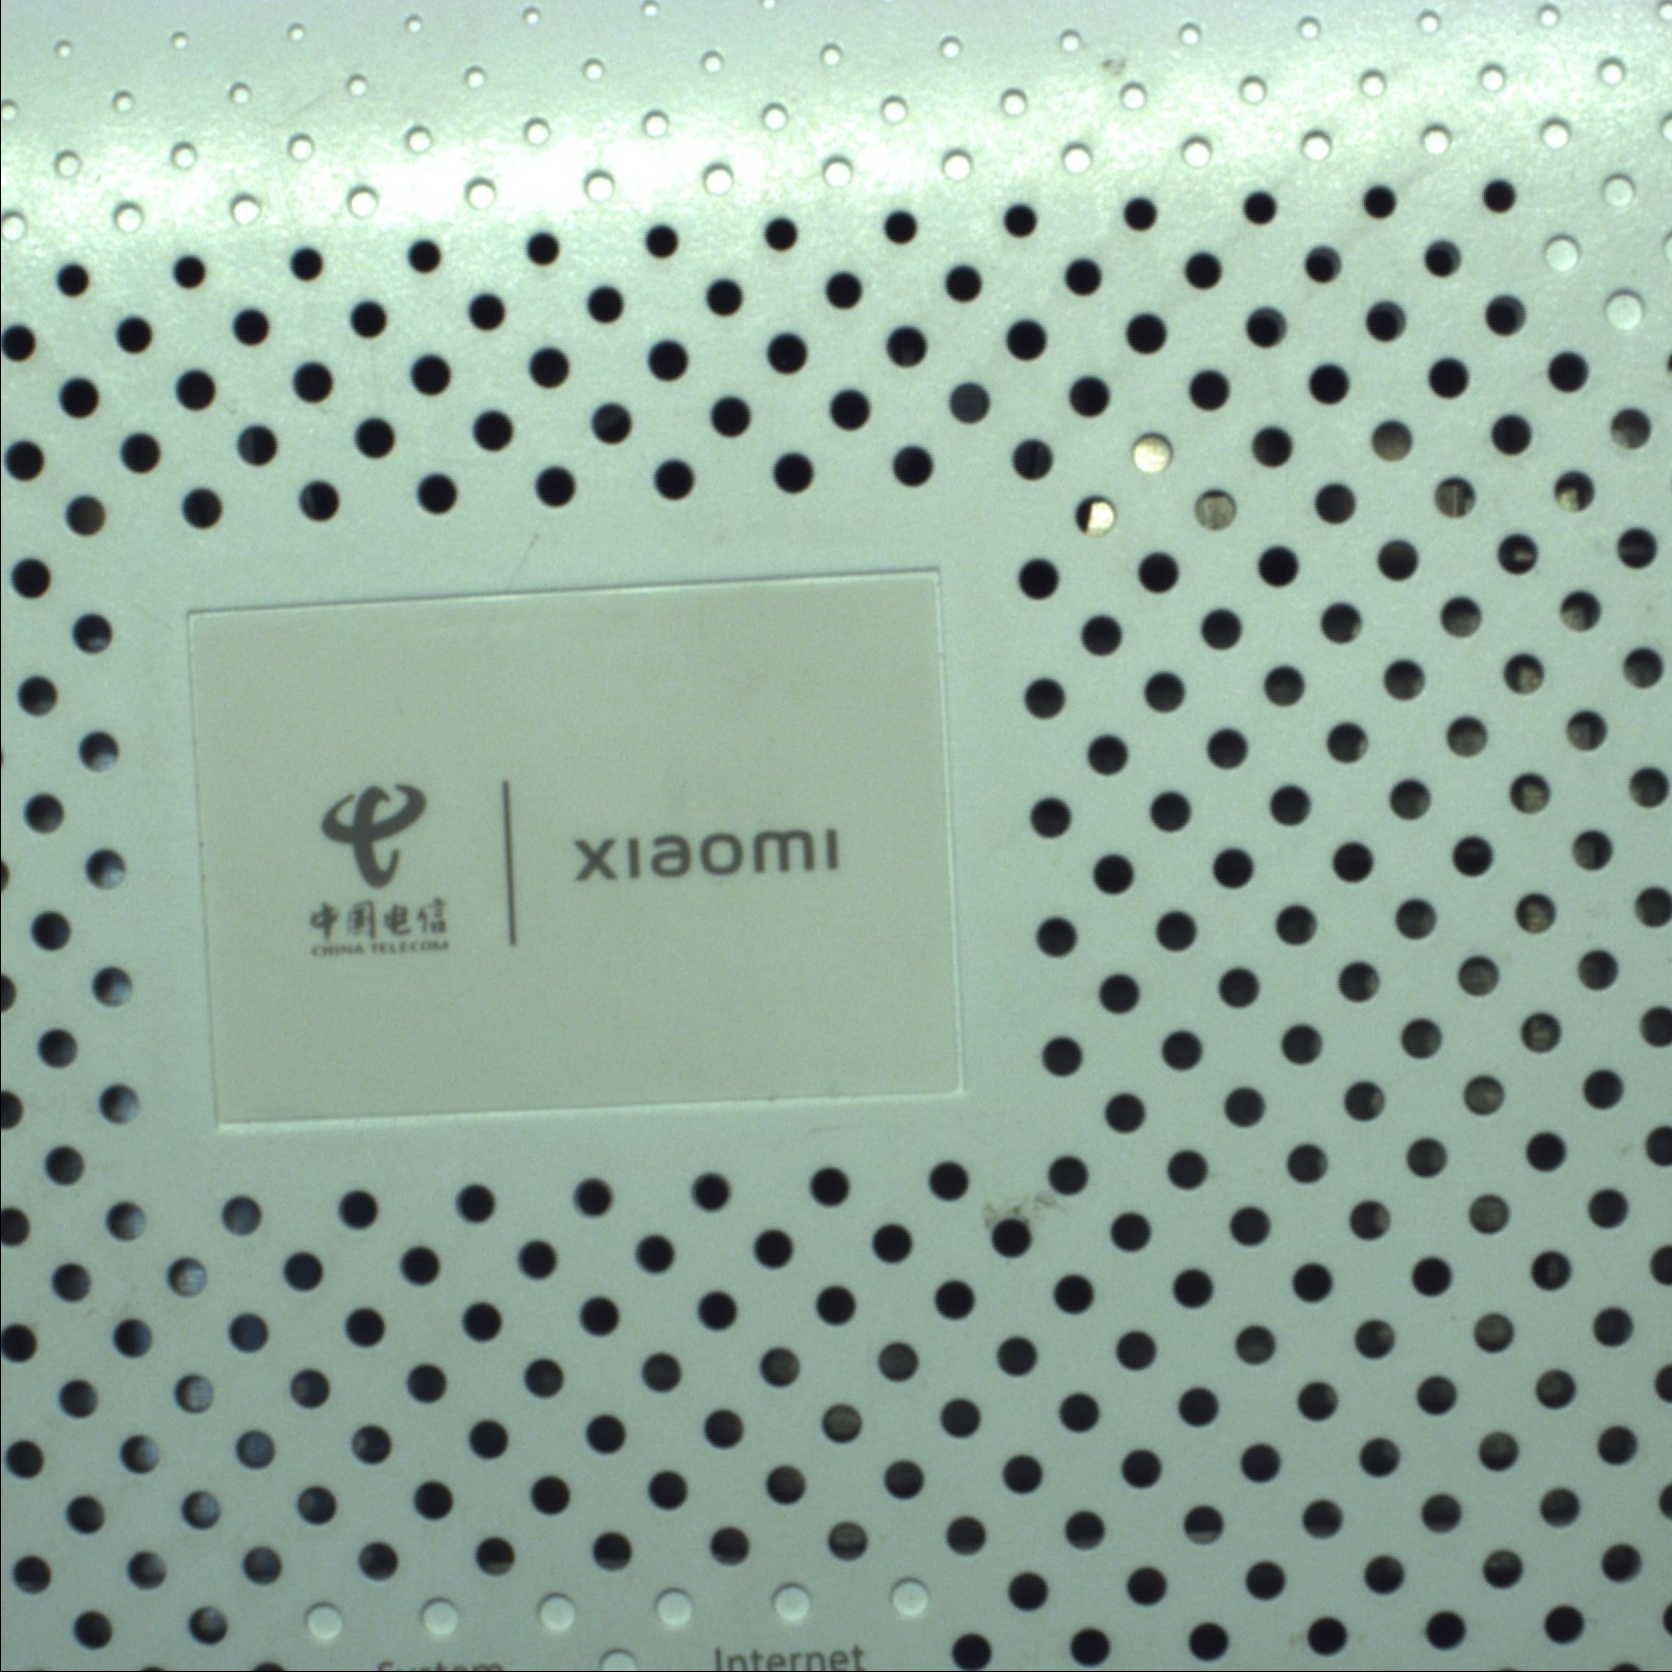MAA_Telecom: (279, 775, 848, 965)
